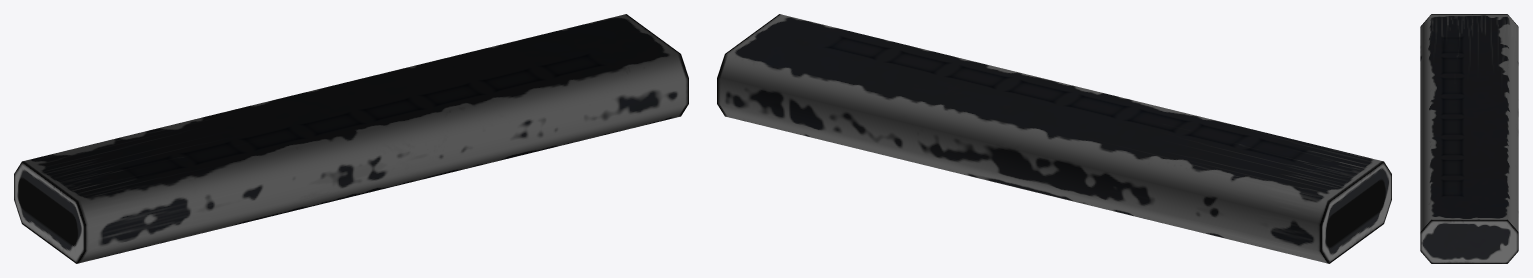
Rendered from MP9_Mag.fbx.
The picture shows the model from 3 angles, left to right: view 1: azimuth 30°, elevation 25°; view 2: azimuth 150°, elevation 25°; view 3: azimuth 270°, elevation 25°; orthographic projection. The views are drawn at different scales.
Visible parts, largest first — view 1: MP9_Mag; view 2: MP9_Mag; view 3: MP9_Mag.
Part boxes in pixels (x1,y1,x2,y2): MP9_Mag: (14, 14, 688, 263); MP9_Mag: (717, 14, 1391, 263); MP9_Mag: (1420, 14, 1518, 263).
Bounding box in the file's own units: 191 × 18.87 × 38.49.
